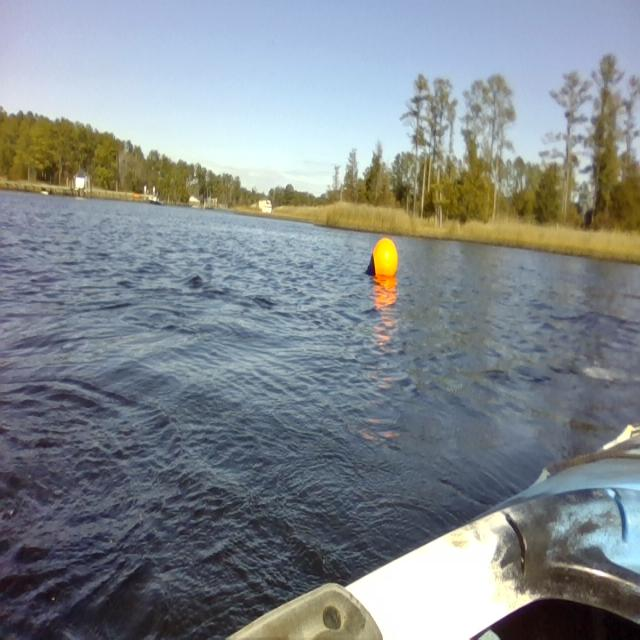Buoy: (359, 233, 405, 289)
